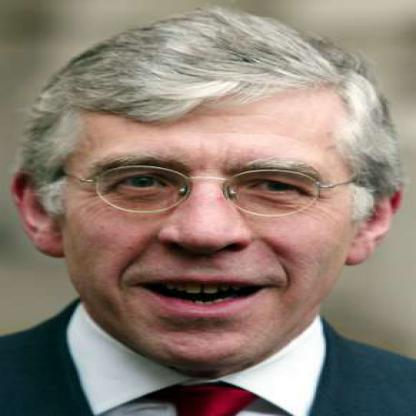face: (57, 18, 365, 369)
